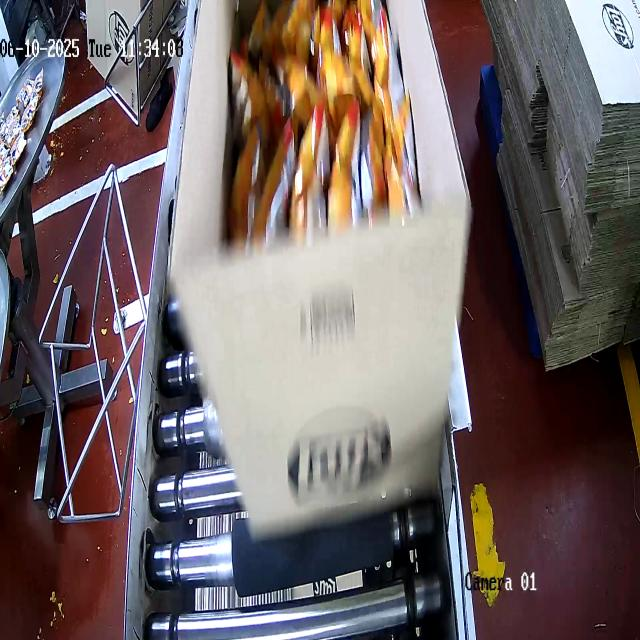FRENCH_CHEESE: (227, 0, 390, 236)
